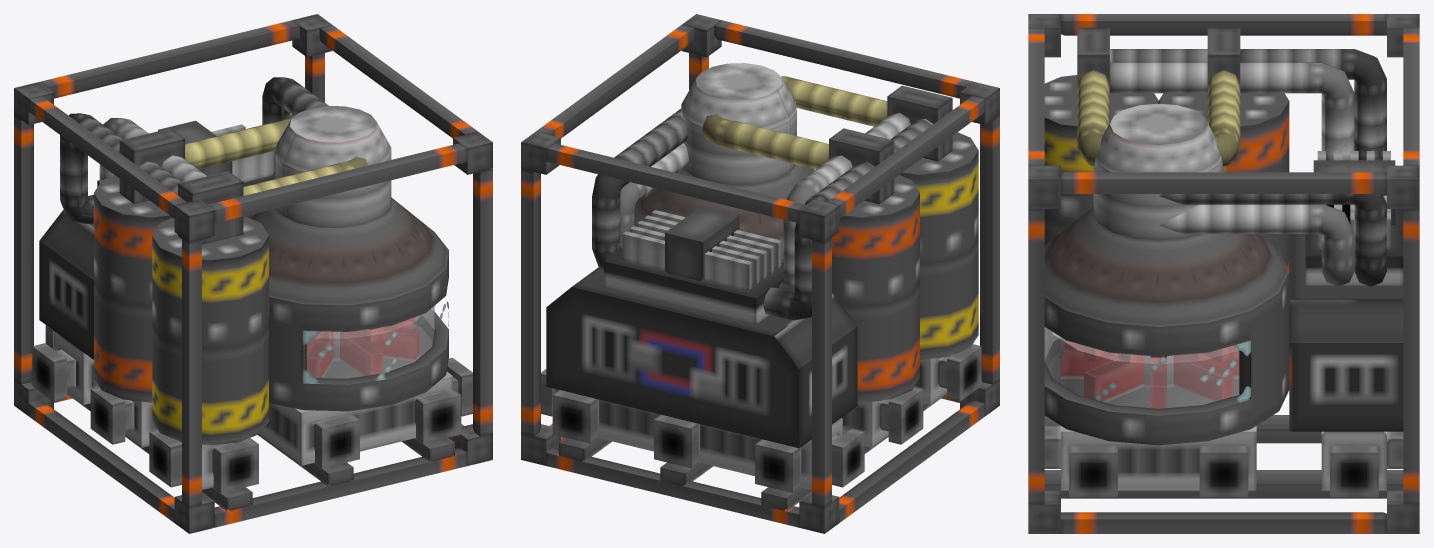
File: machine_chemical_plant_processing_frame.obj
3 renders of one model, left to right at view 1: azimuth 30°, elevation 25°; view 2: azimuth 150°, elevation 25°; view 3: azimuth 270°, elevation 25°, orthographic. The views are drawn at different scales.
Visible parts, largest first — view 1: Base, Frame, Fluid, Spinner, Slider; view 2: Base, Frame, Slider; view 3: Base, Frame, Fluid, Spinner, Slider.
Part boxes in pixels (x1=…): Base: x1=14, y1=77, x2=492, y2=533; Frame: x1=14, y1=14, x2=492, y2=507; Fluid: x1=307, y1=306, x2=434, y2=378; Spinner: x1=307, y1=316, x2=419, y2=377; Slider: x1=158, y1=120, x2=232, y2=176; Base: x1=521, y1=63, x2=999, y2=533; Frame: x1=521, y1=14, x2=999, y2=507; Slider: x1=665, y1=206, x2=739, y2=280; Base: x1=1028, y1=27, x2=1419, y2=533; Frame: x1=1028, y1=14, x2=1419, y2=504; Fluid: x1=1044, y1=327, x2=1239, y2=408; Spinner: x1=1061, y1=342, x2=1239, y2=408; Slider: x1=1313, y1=160, x2=1395, y2=225.
Size of the model in its own units: 3 by 3 by 3.
